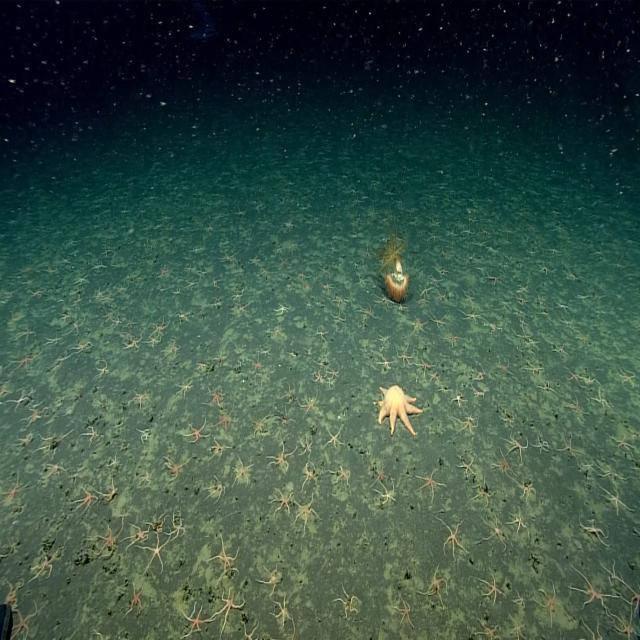brittle-stars: (574, 562, 621, 616), (204, 532, 244, 585), (85, 514, 126, 562), (210, 584, 242, 638), (6, 594, 43, 640), (440, 510, 468, 563), (480, 509, 514, 552), (416, 459, 449, 502), (536, 582, 570, 623), (140, 527, 168, 575), (504, 423, 536, 464), (270, 436, 305, 470), (335, 581, 364, 622), (26, 550, 58, 586), (180, 602, 209, 639), (296, 494, 325, 531), (420, 567, 448, 605), (598, 483, 630, 515), (36, 426, 70, 456), (554, 430, 588, 460), (257, 564, 284, 600), (68, 483, 99, 514), (368, 476, 399, 507), (575, 612, 608, 640), (190, 414, 220, 444), (274, 478, 300, 512), (581, 514, 611, 543), (0, 473, 27, 505), (613, 608, 640, 640), (480, 570, 506, 603), (474, 615, 508, 640), (271, 594, 293, 632), (495, 446, 518, 482), (474, 471, 499, 504), (162, 448, 186, 482), (622, 567, 640, 612), (326, 420, 352, 451), (238, 450, 258, 490), (394, 592, 414, 632), (456, 448, 479, 482), (210, 408, 240, 434), (450, 410, 482, 434), (610, 427, 636, 456), (123, 522, 150, 549), (510, 502, 530, 537), (297, 390, 322, 418), (2, 580, 23, 613), (168, 511, 189, 543), (206, 472, 226, 505), (300, 455, 318, 491), (328, 464, 357, 486), (598, 460, 627, 482), (415, 352, 439, 378), (238, 616, 263, 640), (19, 405, 46, 427), (510, 612, 531, 640), (590, 384, 614, 408), (1, 534, 20, 564), (604, 553, 621, 586), (250, 412, 270, 440), (618, 363, 638, 391), (79, 424, 103, 447), (564, 395, 590, 416), (128, 582, 143, 617), (517, 476, 538, 501), (532, 430, 553, 455), (44, 458, 70, 478), (13, 354, 41, 372), (520, 358, 548, 376), (205, 384, 224, 410), (96, 480, 120, 500), (510, 329, 540, 345), (490, 356, 513, 376), (14, 430, 36, 450), (10, 391, 29, 414), (175, 377, 194, 400), (161, 340, 181, 361), (148, 316, 170, 335), (213, 437, 236, 455), (451, 384, 468, 408), (398, 346, 415, 370), (440, 330, 464, 347), (15, 324, 36, 343), (282, 382, 300, 404), (92, 358, 109, 381), (371, 463, 388, 486), (134, 389, 158, 405), (468, 363, 488, 382), (275, 408, 293, 429), (428, 313, 450, 330), (299, 432, 313, 458), (378, 349, 393, 373), (512, 588, 528, 610), (537, 380, 559, 396), (411, 319, 433, 335), (564, 367, 583, 385), (550, 342, 568, 361), (210, 349, 230, 366), (150, 516, 167, 535), (470, 386, 490, 402), (125, 335, 141, 355), (72, 339, 92, 355), (68, 316, 84, 336), (359, 305, 380, 320), (257, 368, 274, 386), (85, 627, 108, 640), (138, 468, 154, 486), (579, 454, 597, 470), (44, 333, 64, 347), (144, 333, 162, 348), (486, 320, 504, 335), (278, 300, 293, 318), (376, 295, 395, 309), (502, 408, 518, 424), (136, 425, 150, 443), (270, 325, 288, 339), (250, 356, 265, 372), (335, 312, 350, 328), (58, 310, 74, 325), (239, 303, 255, 318), (335, 294, 351, 309), (287, 617, 297, 640), (313, 355, 327, 371), (327, 365, 340, 382), (177, 307, 190, 324), (465, 312, 483, 324), (582, 372, 599, 384), (574, 332, 592, 343), (316, 324, 326, 343), (0, 379, 9, 399), (326, 375, 338, 390), (125, 315, 137, 330), (314, 370, 325, 386), (56, 351, 69, 364), (417, 297, 430, 310), (397, 302, 411, 314), (103, 310, 116, 322), (563, 316, 576, 328), (464, 294, 478, 305), (514, 296, 529, 306), (197, 359, 206, 375), (113, 316, 124, 329), (258, 346, 272, 356), (427, 279, 442, 288), (490, 277, 502, 288), (502, 299, 514, 310), (528, 336, 541, 346), (109, 452, 117, 468), (124, 329, 134, 341), (556, 303, 570, 311), (520, 282, 529, 294), (438, 292, 448, 302), (422, 287, 431, 297)
